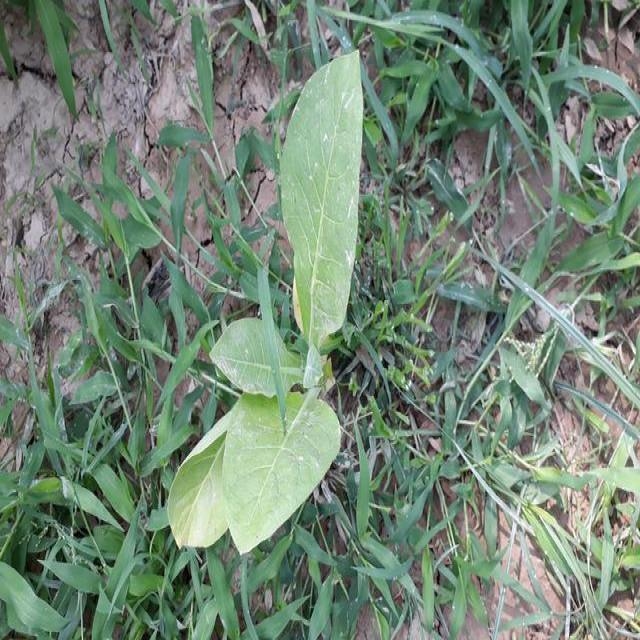crop: (169, 49, 371, 568)
